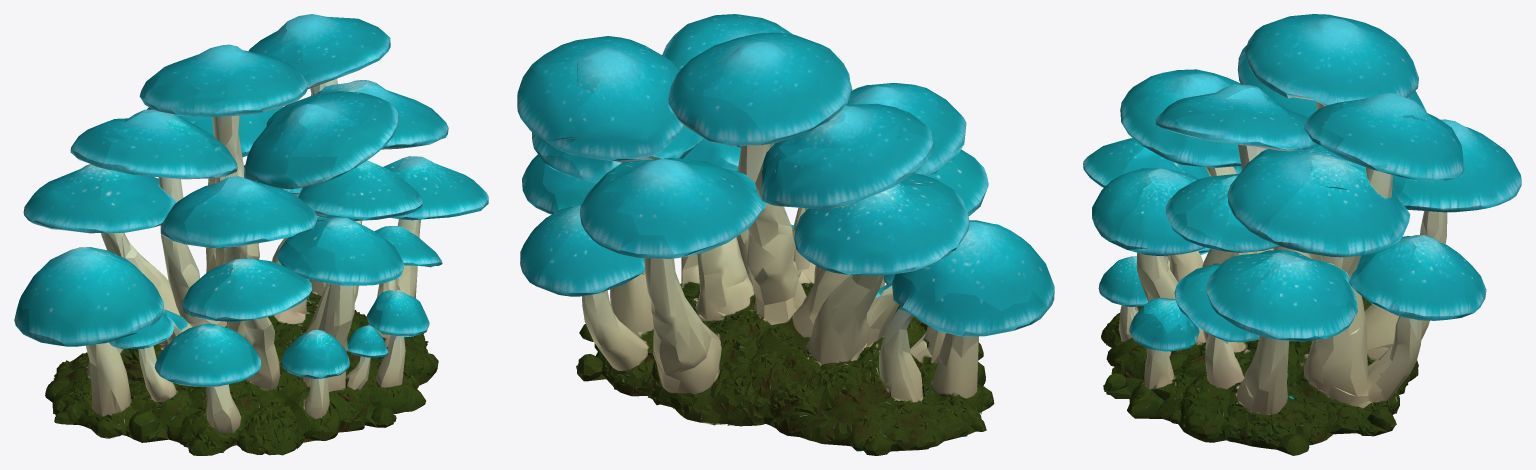
Rendered from Mushrooms.glb.
3 views of the same model, side by side, from view 1: azimuth 30°, elevation 25°; view 2: azimuth 150°, elevation 25°; view 3: azimuth 270°, elevation 25° (orthographic). The views are drawn at different scales.
Bounding box in the file's own units: 1.9 × 1.25 × 1.46.
1 material, 1 textured.
